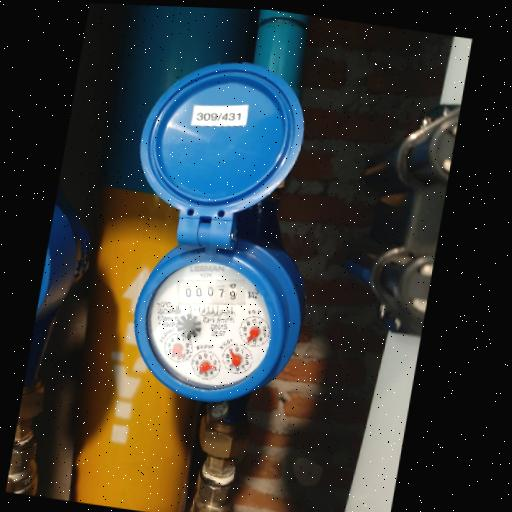0: (193, 284, 206, 300), (204, 284, 217, 300), (182, 284, 195, 299)
7: (214, 284, 228, 301)
9: (224, 283, 240, 303)
border_water_meter_number: (172, 270, 250, 314)
